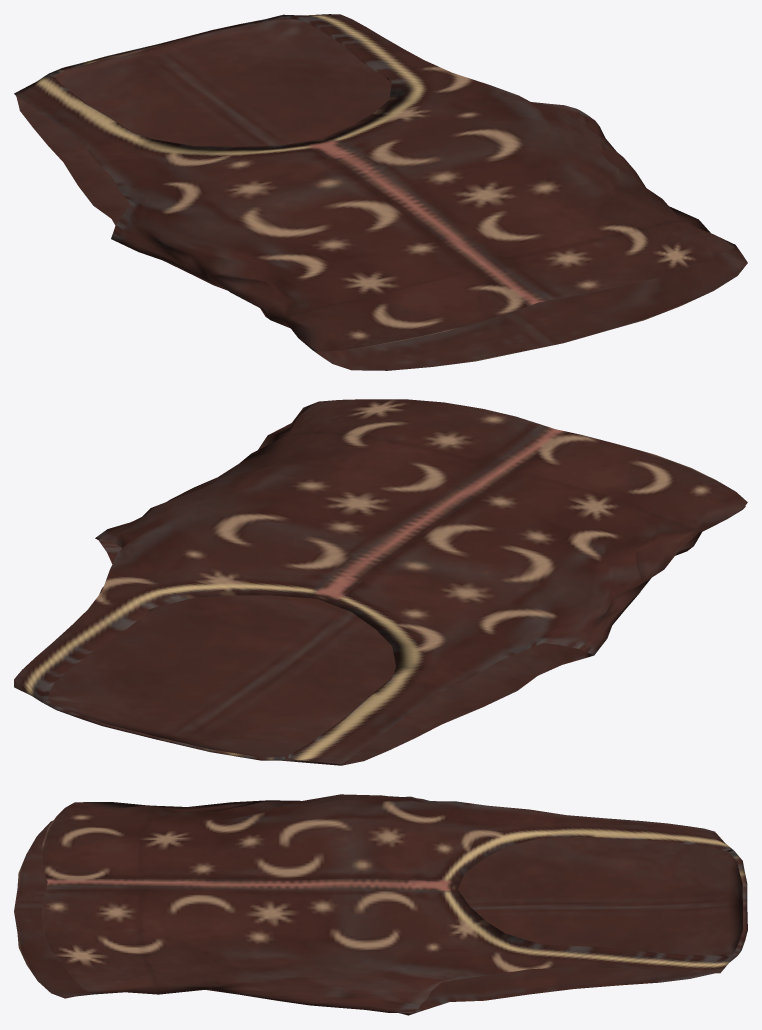
The model's file is ZipCropShirt_Ground.fbx.
The picture shows the model from 3 angles, top to bottom: view 1: azimuth 30°, elevation 25°; view 2: azimuth 150°, elevation 25°; view 3: azimuth 270°, elevation 25°; orthographic projection. The views are drawn at different scales.
Visible parts, largest first — view 1: 25_MIS28Torso01_0.5_0_0.001; view 2: 25_MIS28Torso01_0.5_0_0.001; view 3: 25_MIS28Torso01_0.5_0_0.001.
Boxes of the visible parts, bbox=[...] form: 25_MIS28Torso01_0.5_0_0.001: bbox=[14, 14, 747, 370]; 25_MIS28Torso01_0.5_0_0.001: bbox=[14, 399, 747, 765]; 25_MIS28Torso01_0.5_0_0.001: bbox=[14, 794, 747, 1015].
Bounding box in the file's own units: 0.1531 × 0.00996 × 0.2212.
